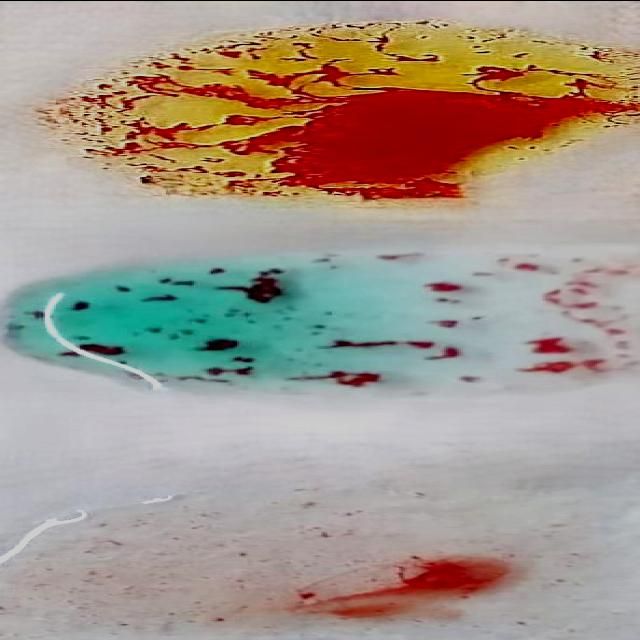A: (28, 255, 640, 395)
B: (43, 15, 640, 201)
D: (33, 499, 640, 638)
